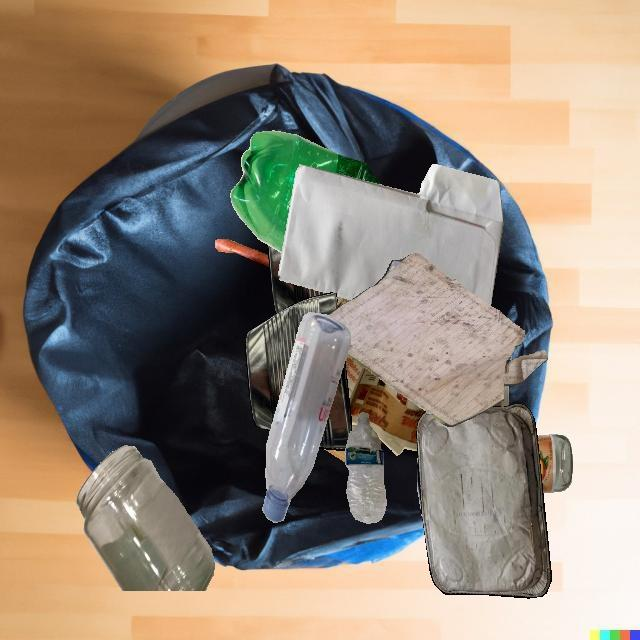biowaste: (215, 239, 269, 266), (378, 438, 383, 444)
glass: (76, 445, 215, 591), (537, 434, 573, 493), (275, 312, 276, 315)
metal: (417, 403, 551, 598), (245, 292, 338, 431), (267, 245, 328, 314), (319, 360, 351, 451)
paper: (327, 253, 548, 427), (278, 164, 503, 306), (345, 356, 426, 455), (417, 457, 423, 521), (493, 386, 508, 407)
plastic: (262, 312, 350, 523), (230, 131, 380, 253), (345, 412, 386, 523), (324, 449, 345, 462)
